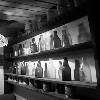beer: (63, 56, 72, 81)
